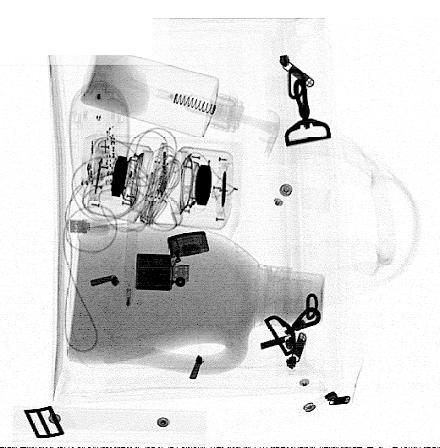Lighter: (135, 230, 210, 292)
